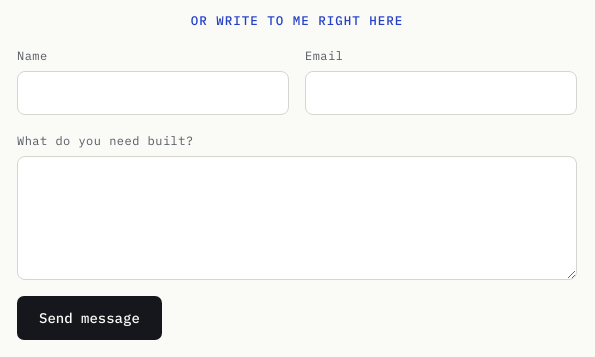
Test: ContactForm › shows the error state and keeps the form when the POST fails
This screenshot has width=595, height=357.
Type "Jane Doe" into the field labelled "Name". click: (153, 93)
box: [17,71,289,115]
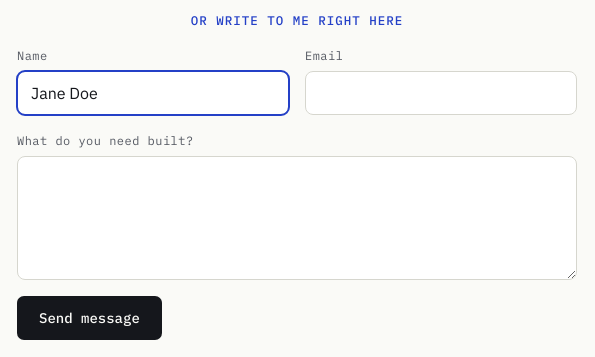
Type "jane@example.com" into the field labelled "Email". click: (441, 93)
box: [305,71,577,115]
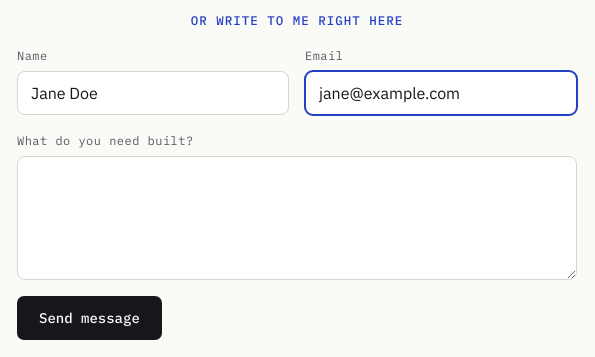
Type "Please build me a platform." into the text box labelled "What do you need built?". click: (297, 218)
box: [17,156,577,280]
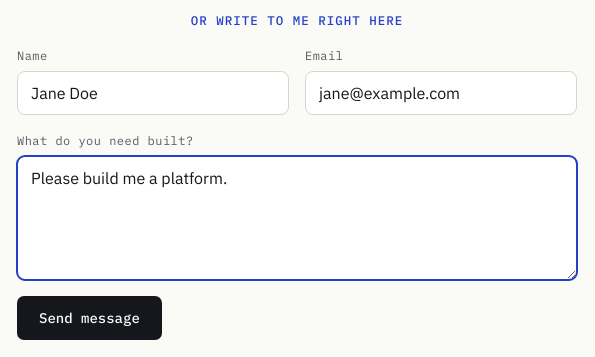
Click the button "Send message". click: (89, 318)
box: [17,296,162,340]
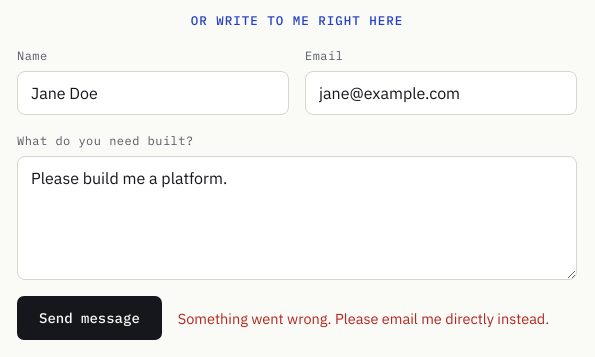
Now the message reads "Something went wrong. Please email me directly instead.", box [178,309,549,328]
